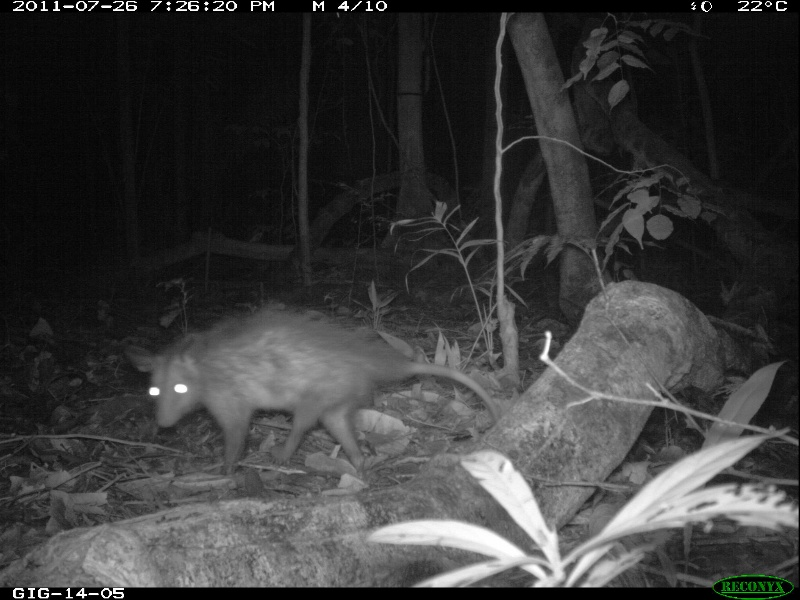opossum: (132, 306, 503, 471)
